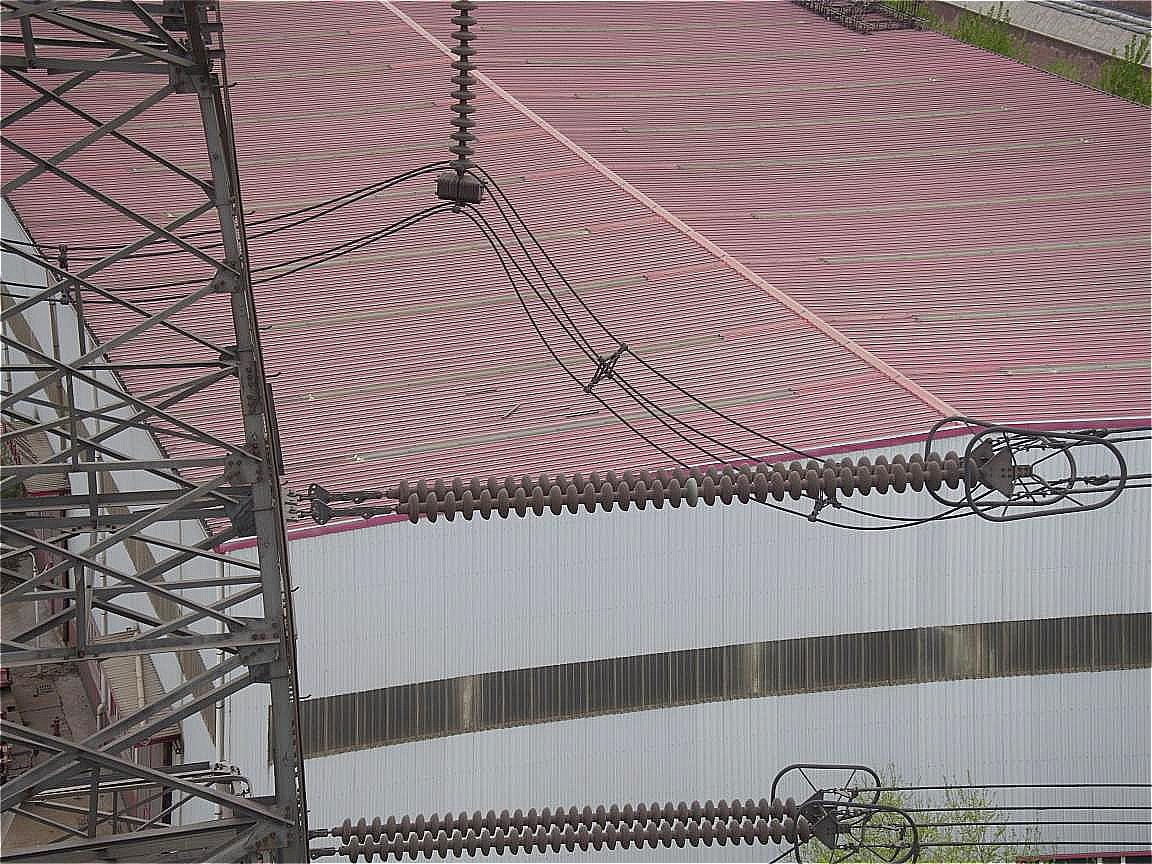insultor1: (370, 444, 1002, 532), (330, 795, 822, 863)
